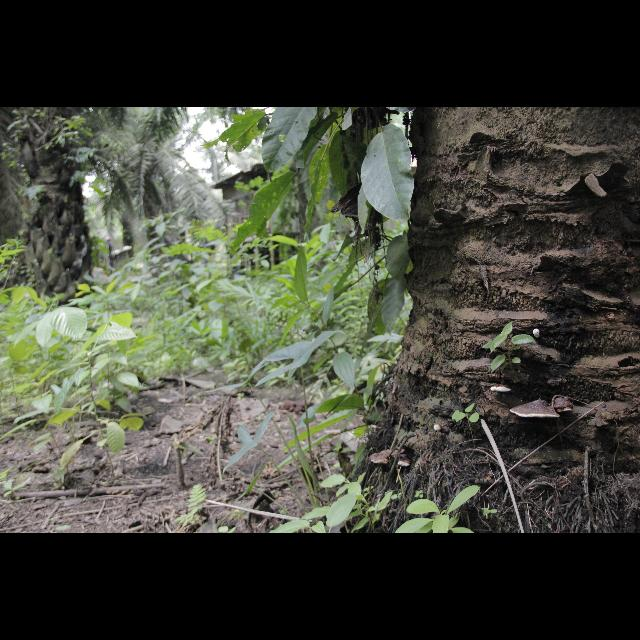ganoderma: (511, 401, 561, 419), (553, 398, 575, 414), (371, 451, 396, 465), (398, 456, 412, 469), (492, 385, 512, 393)
primordium: (435, 425, 444, 434), (534, 331, 542, 340)
